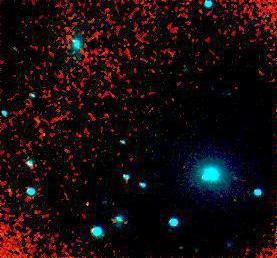star: (220, 162, 250, 192)
